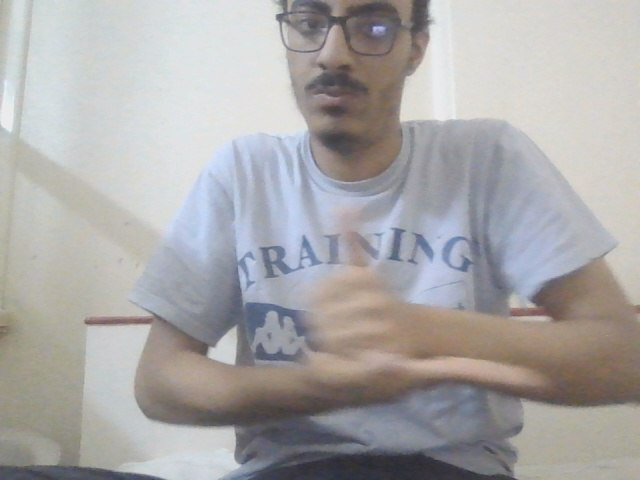Help: (278, 205, 540, 430)
